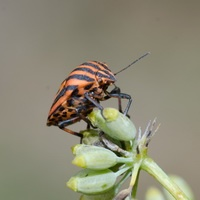insect: (47, 61, 130, 129)
